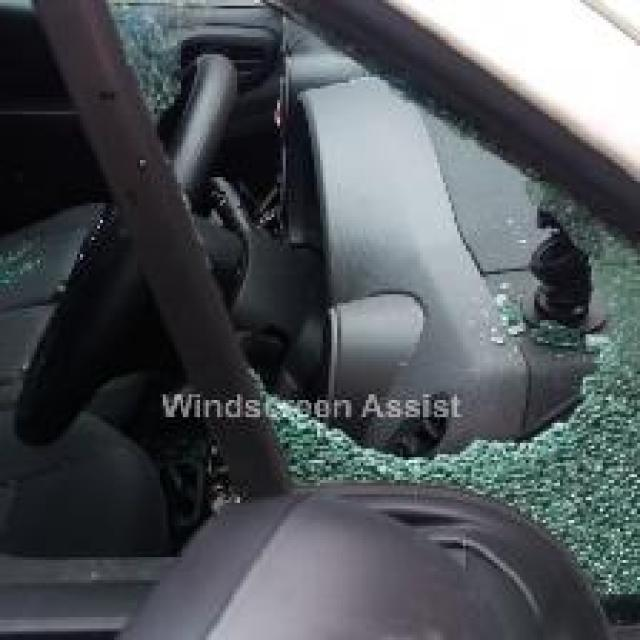glass_shatter_severe: (111, 0, 634, 577)
